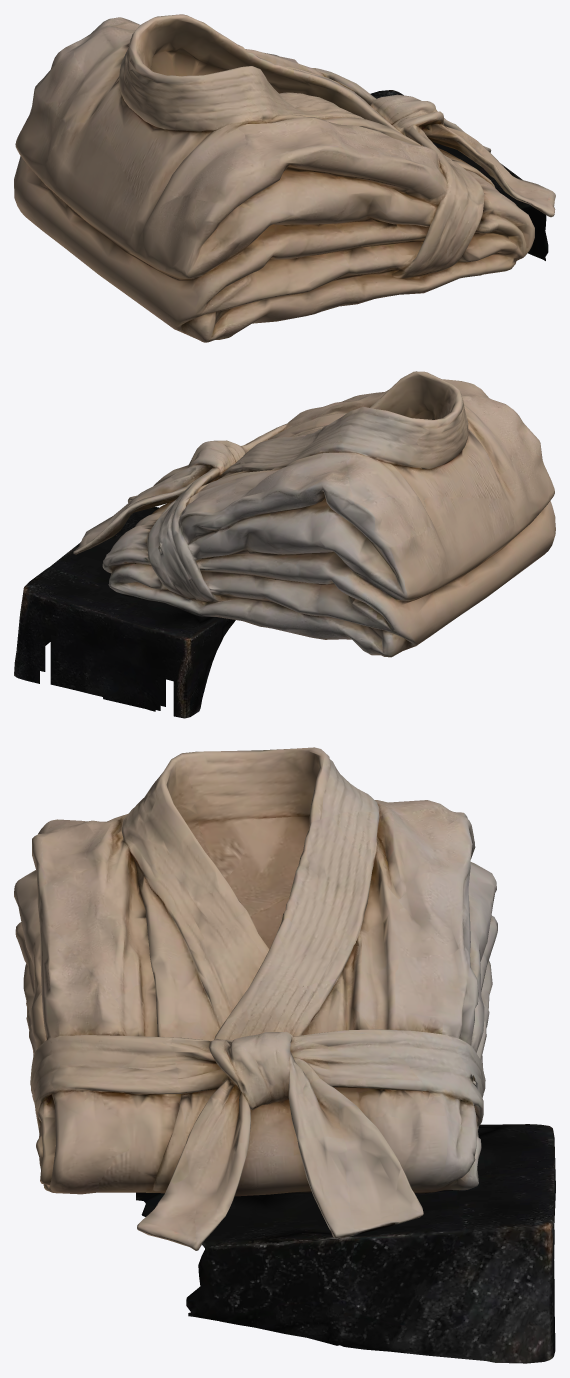
The model's file is initiate-robe.glb.
The picture shows the model from 3 angles, top to bottom: view 1: azimuth 30°, elevation 25°; view 2: azimuth 150°, elevation 25°; view 3: azimuth 270°, elevation 25°; orthographic projection. The views are drawn at different scales.
Visible parts, largest first — view 1: tripo_node_2443b29c-d376-4b4d-bec9-329e8a259c7b; view 2: tripo_node_2443b29c-d376-4b4d-bec9-329e8a259c7b; view 3: tripo_node_2443b29c-d376-4b4d-bec9-329e8a259c7b.
Part boxes in pixels (left/top/right/bottom): tripo_node_2443b29c-d376-4b4d-bec9-329e8a259c7b: left=14, top=14, right=555, bottom=342; tripo_node_2443b29c-d376-4b4d-bec9-329e8a259c7b: left=14, top=371, right=555, bottom=718; tripo_node_2443b29c-d376-4b4d-bec9-329e8a259c7b: left=14, top=747, right=555, bottom=1363.
Size of the model in its own units: 0.9991 by 0.6959 by 0.8546.
1 material, 1 textured.
